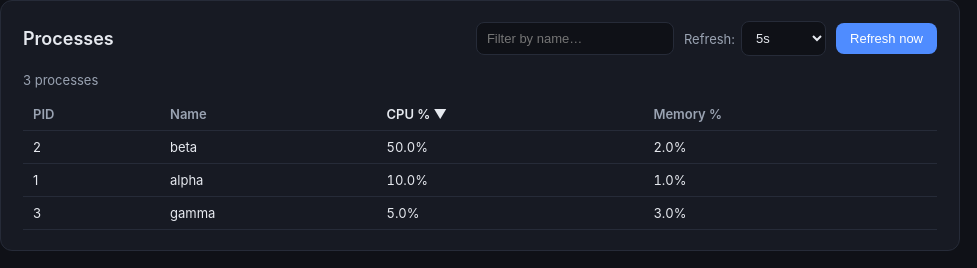
Test case: ProcessList › filters processes by the search box
Expected: the text "alpha" is shown, x1=160 y1=164 x2=376 y2=196
In the field named "Filter processes by name": (575, 38) x1=476 y1=22 x2=674 y2=55, type "bet"
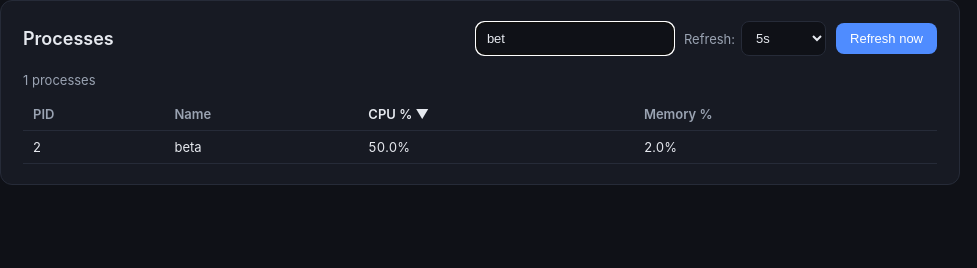
Expected: the text "beta" is shown, x1=164 y1=130 x2=358 y2=164
Expected: the text "alpha" is gone
